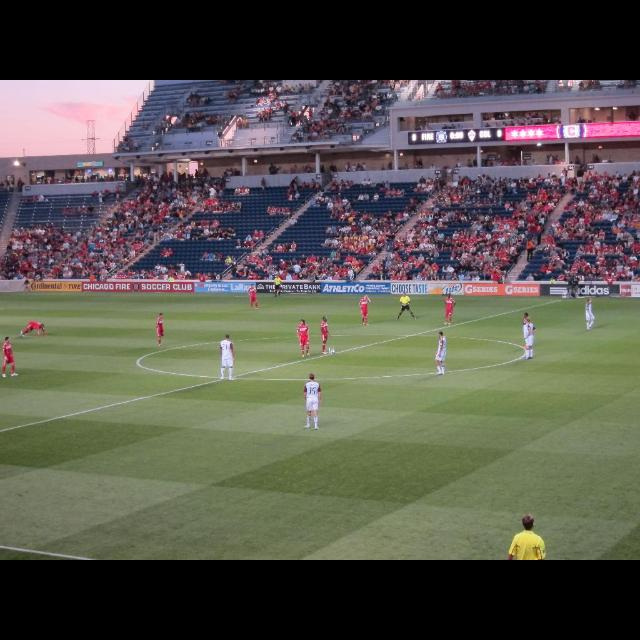Football: (330, 347, 334, 353)
